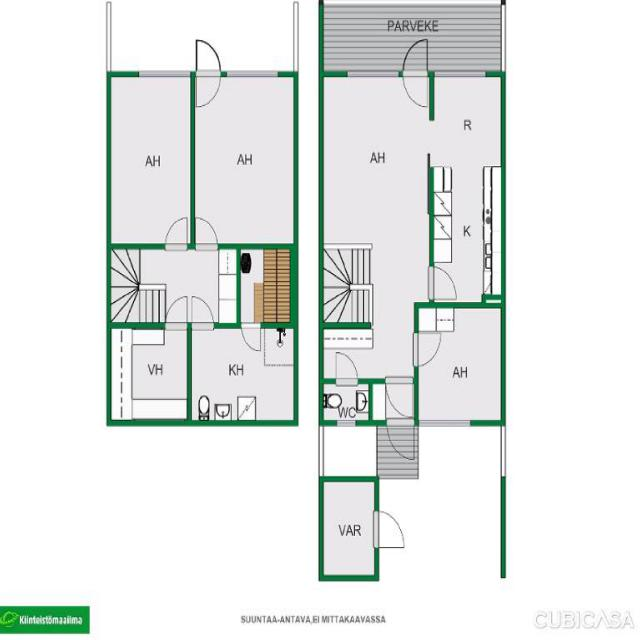door: (374, 510, 406, 548), (386, 420, 414, 462), (387, 378, 413, 418), (402, 71, 427, 110), (402, 37, 427, 76), (196, 70, 220, 108), (414, 334, 442, 366), (196, 39, 220, 76), (165, 215, 187, 250), (196, 215, 218, 250), (336, 349, 357, 384), (192, 297, 212, 328), (167, 297, 186, 328), (242, 323, 260, 352)
